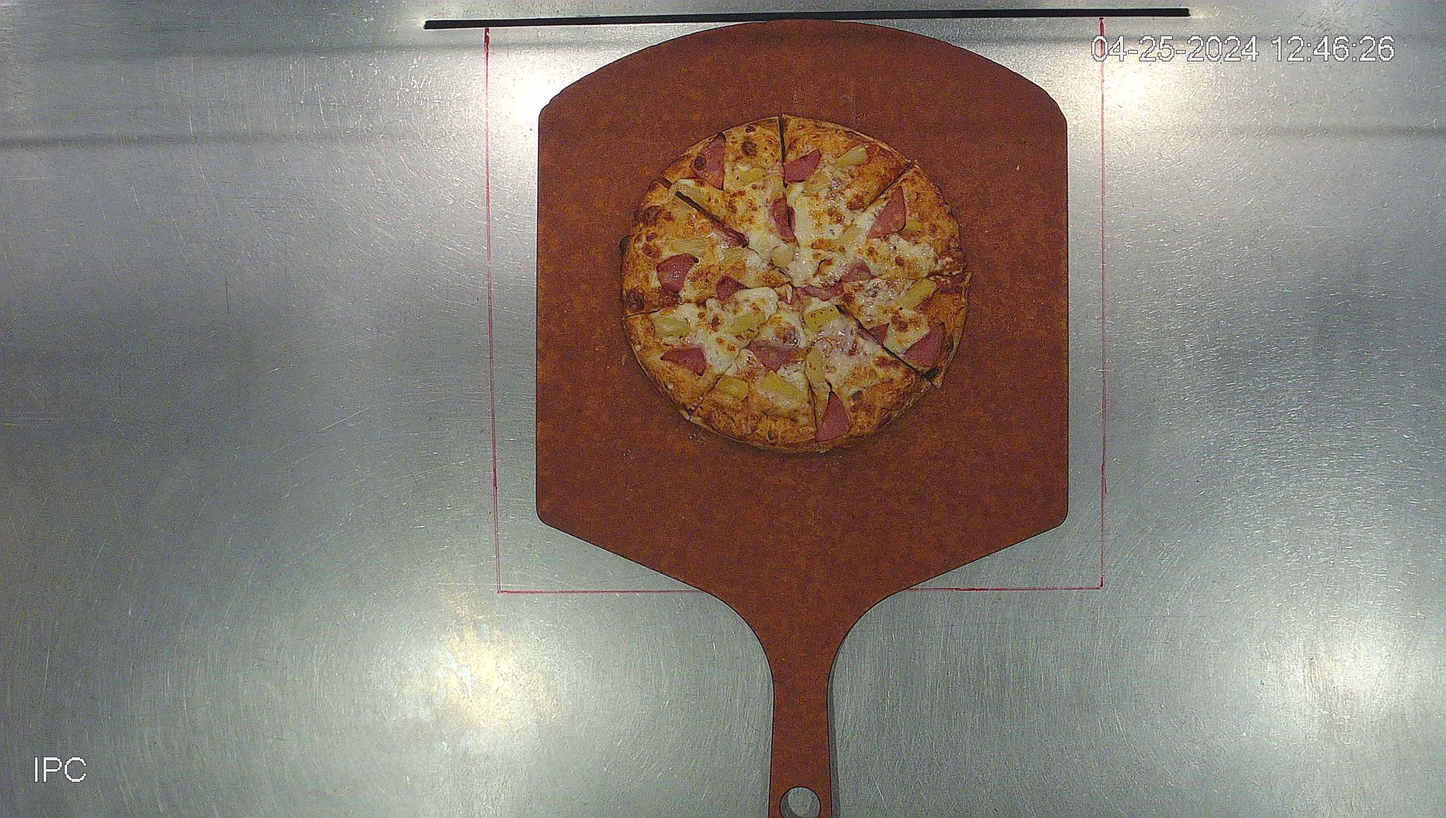manager_choice: (617, 112, 968, 451)
